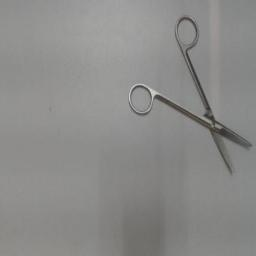Curved Mayo Scissors: (124, 8, 256, 180)
